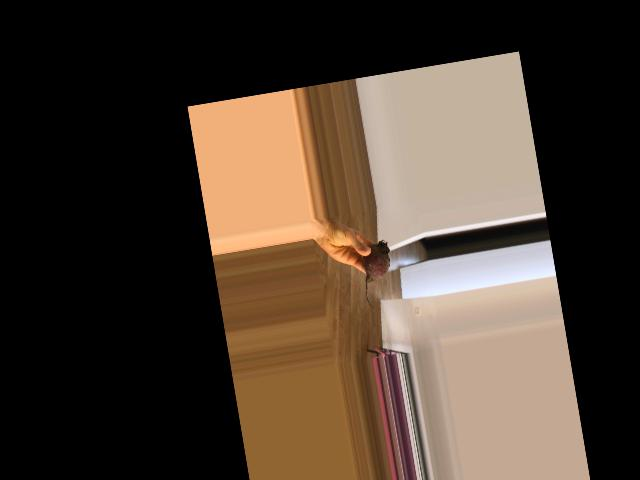beet: (357, 240, 398, 309)
